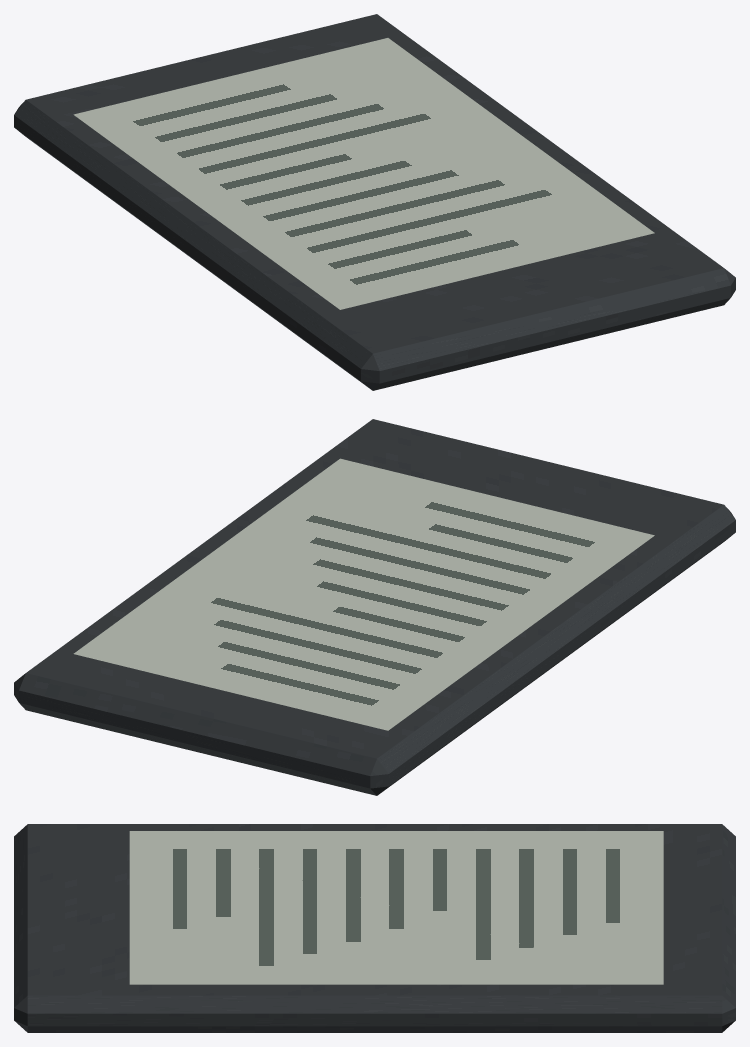
Rendered from eink_tablet_pc.glb.
3 views of the same model, one above another, from view 1: azimuth 30°, elevation 25°; view 2: azimuth 150°, elevation 25°; view 3: azimuth 270°, elevation 25° (orthographic).
Parts seen in each view (by area): view 1: block_e-ink display, block_moulded shell; view 2: block_e-ink display, block_moulded shell; view 3: block_e-ink display, block_moulded shell.
Part boxes in pixels (x1,y1,x2,y2): block_e-ink display: [73, 38, 654, 309]; block_moulded shell: [14, 14, 735, 390]; block_e-ink display: [73, 458, 654, 730]; block_moulded shell: [14, 419, 735, 795]; block_e-ink display: [129, 831, 663, 984]; block_moulded shell: [14, 824, 735, 1032].
Bounding box in the file's own units: 0.0948 × 0.0095 × 0.158.
1 material, 1 textured.
